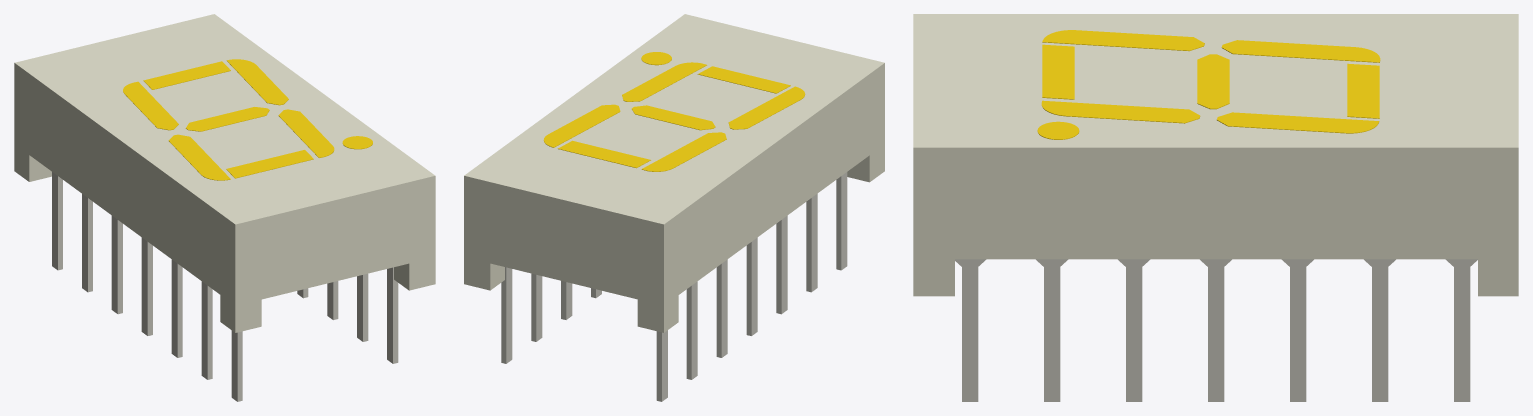
Rendered from kc-man3810a.glb.
The picture shows the model from 3 angles, left to right: view 1: azimuth 30°, elevation 25°; view 2: azimuth 150°, elevation 25°; view 3: azimuth 270°, elevation 25°; orthographic projection. The views are drawn at different scales.
Parts seen in each view (by area): view 1: 0.75_0.75_0.6666666666666666_0, 0.6666666666666666_0.6666666666666666_0.5833333333333334_0.8, 0.9166666666666666_0.6666666666666666_0_0; view 2: 0.75_0.75_0.6666666666666666_0, 0.6666666666666666_0.6666666666666666_0.5833333333333334_0.8, 0.9166666666666666_0.6666666666666666_0_0; view 3: 0.75_0.75_0.6666666666666666_0, 0.6666666666666666_0.6666666666666666_0.5833333333333334_0.8, 0.9166666666666666_0.6666666666666666_0_0.
Part boxes in pixels (x1=…): 0.75_0.75_0.6666666666666666_0: x1=14, y1=14, x2=435, y2=332; 0.6666666666666666_0.6666666666666666_0.5833333333333334_0.8: x1=52, y1=172, x2=398, y2=401; 0.9166666666666666_0.6666666666666666_0_0: x1=123, y1=59, x2=372, y2=180; 0.75_0.75_0.6666666666666666_0: x1=464, y1=14, x2=884, y2=332; 0.6666666666666666_0.6666666666666666_0.5833333333333334_0.8: x1=501, y1=172, x2=847, y2=401; 0.9166666666666666_0.6666666666666666_0_0: x1=543, y1=52, x2=805, y2=171; 0.75_0.75_0.6666666666666666_0: x1=913, y1=14, x2=1518, y2=296; 0.6666666666666666_0.6666666666666666_0.5833333333333334_0.8: x1=955, y1=259, x2=1477, y2=401; 0.9166666666666666_0.6666666666666666_0_0: x1=1037, y1=30, x2=1380, y2=139.
Size of the model in its own units: 0.98 by 0.916 by 1.88.
